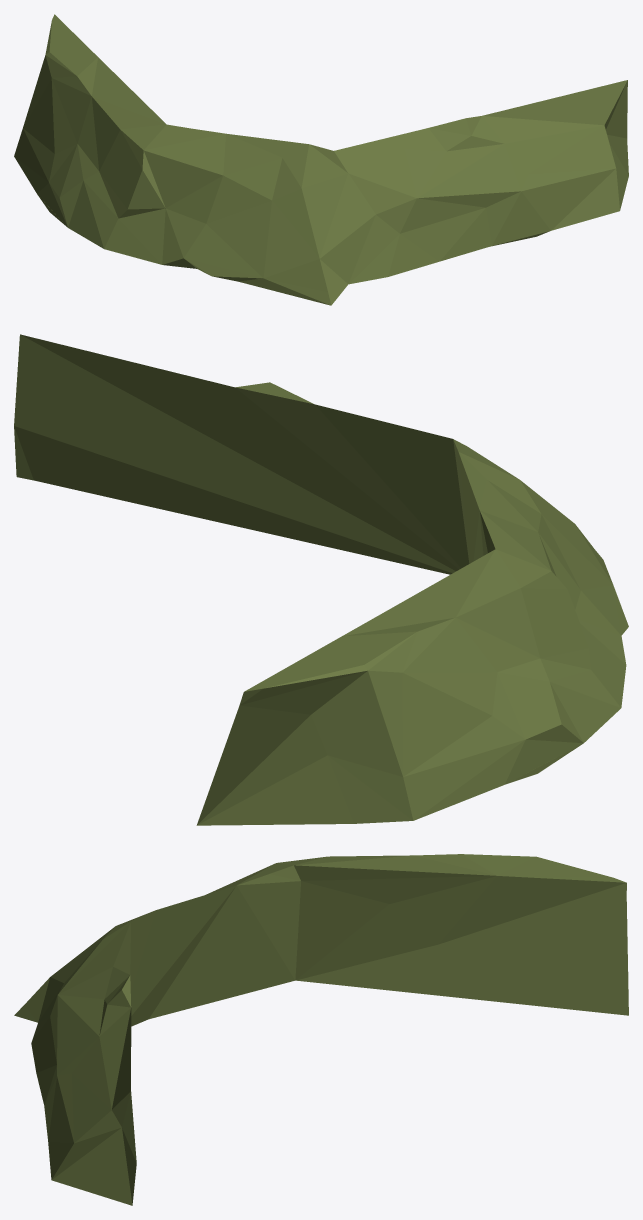
Rendered from ground_44.fbx.
3 views of the same model, one above another, from view 1: azimuth 30°, elevation 25°; view 2: azimuth 150°, elevation 25°; view 3: azimuth 270°, elevation 25° (orthographic). The views are drawn at different scales.
Parts seen in each view (by area): view 1: ground_44; view 2: ground_44; view 3: ground_44.
Part boxes in pixels (x1,y1,x2,y2): ground_44: [14, 14, 628, 305]; ground_44: [14, 334, 628, 825]; ground_44: [14, 854, 628, 1205].
Size of the model in its own units: 7.95 by 1.77 by 7.6.
